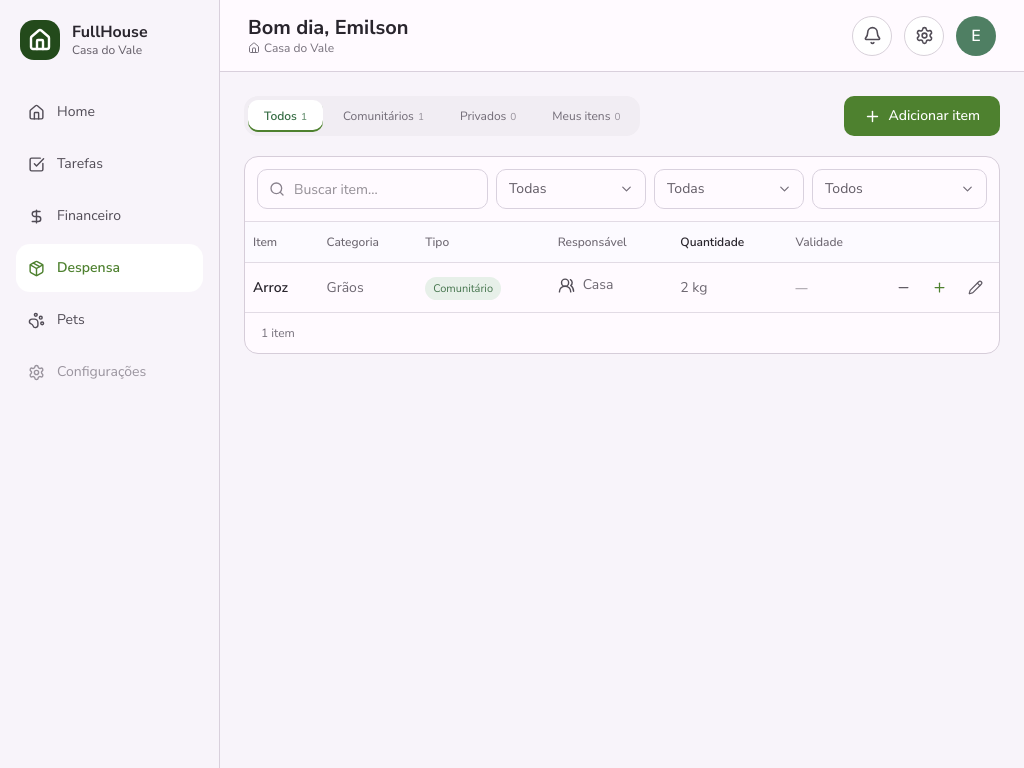
Test: PantryPage › rejects movement quantities with more than two decimal places before sending
Click the button named "Registrar entrada para Arroz" at (939, 288), box [923,272,955,304]
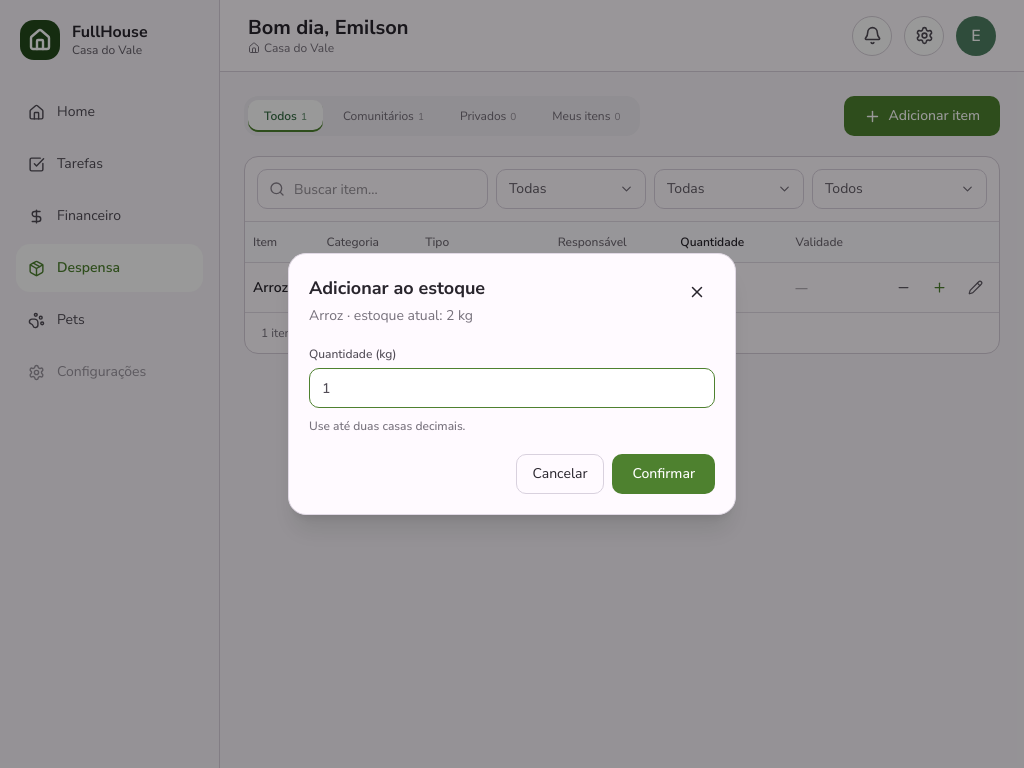
Replace the text in the field with placeholder "Ex.: 0,5" with "0,123" at (512, 388), box [309,368,715,408]
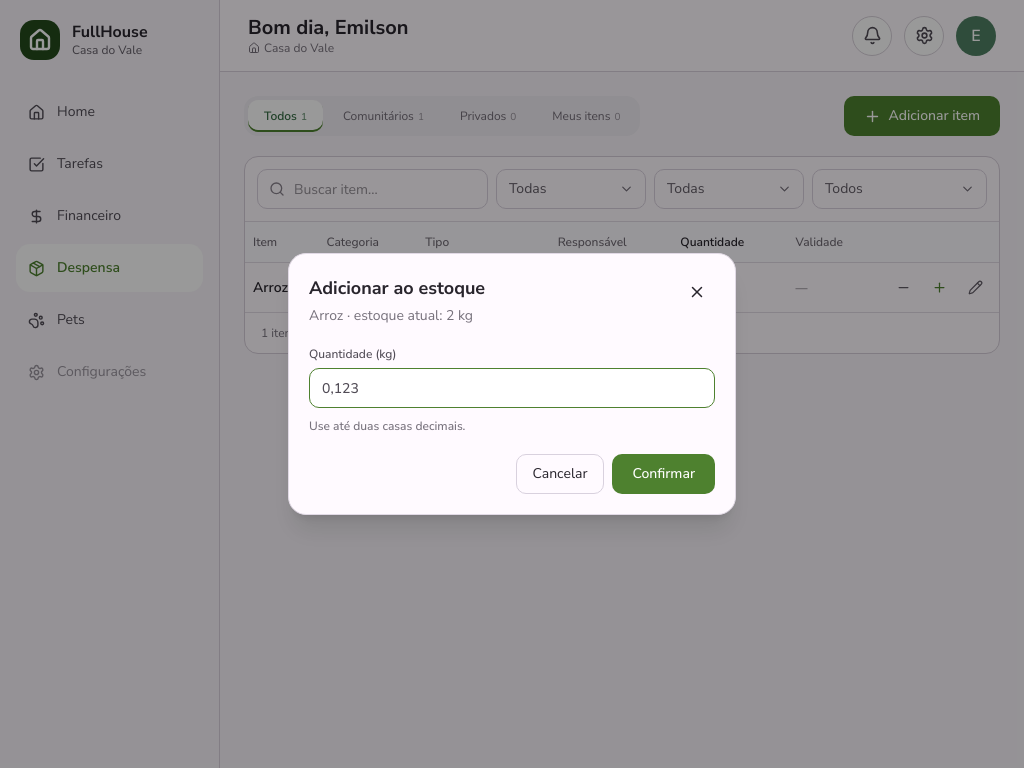
Click the button "Confirmar" at (664, 474), box [612,454,715,494]
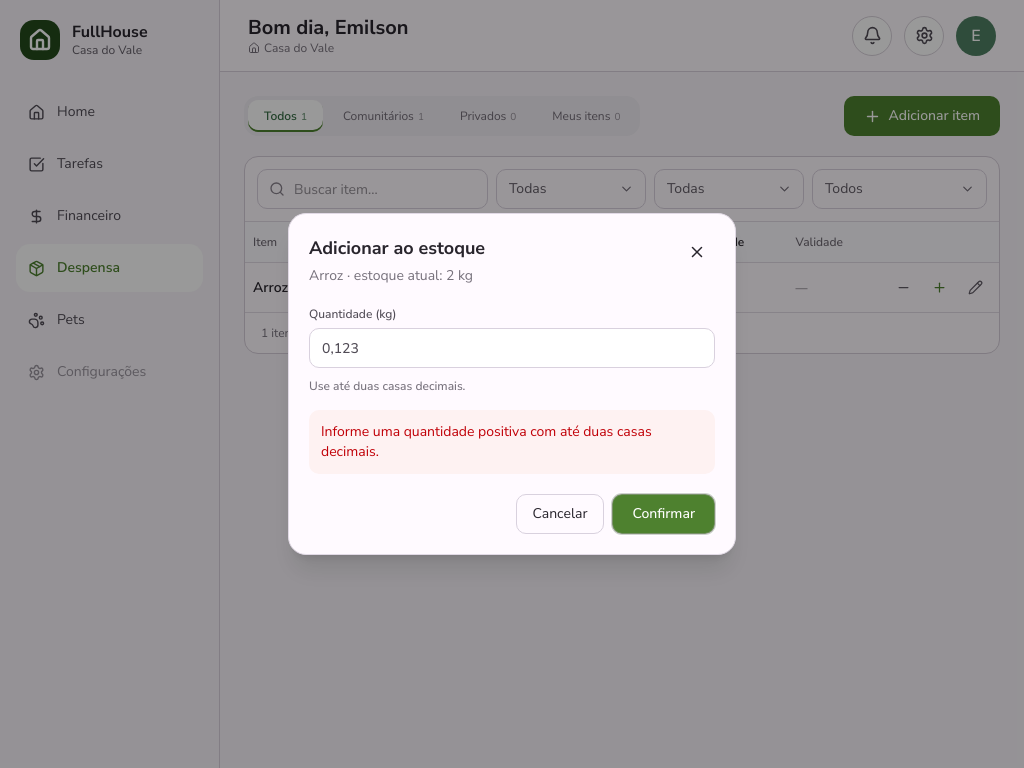
Result: the message reads "Informe uma quantidade positiva com até duas casas decimais." at [321,422,652,461]
